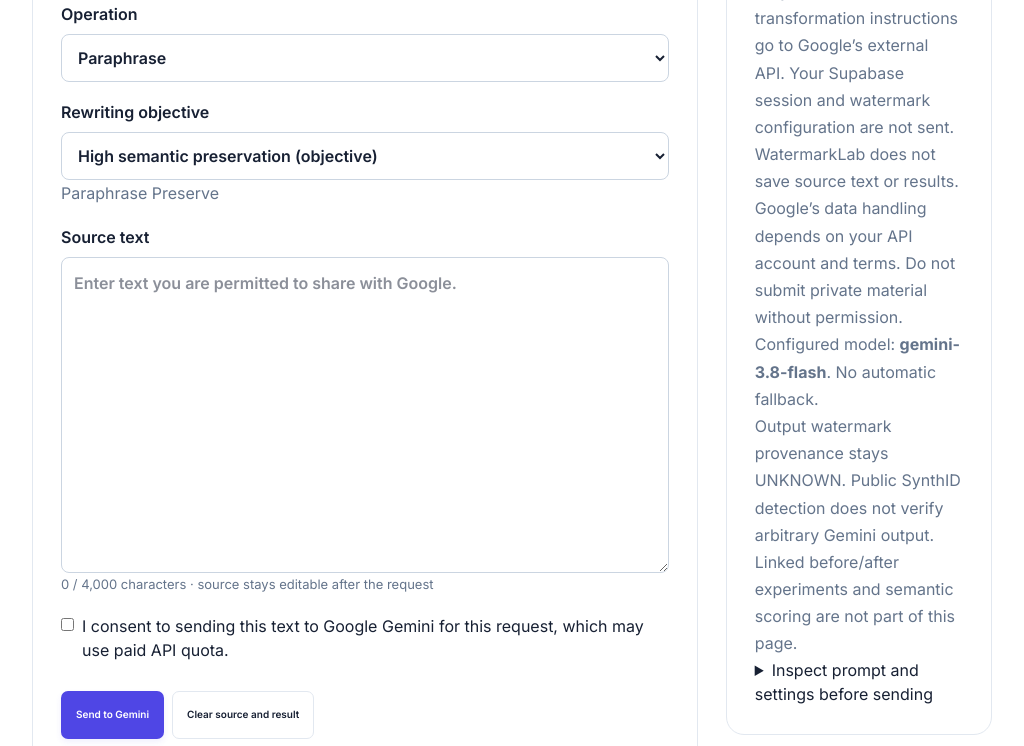
Scenario: provider quota error is surfaced without retry or a generated result
The width and height of the screenshot is (1024, 746).
(page scrolled)
Check: the button "Send to Gemini" is enabled, box [61, 691, 164, 739]
Type "Example text" into the text box labelled "Source text".
click(365, 415); type("Example text")  # box [61, 257, 669, 574]
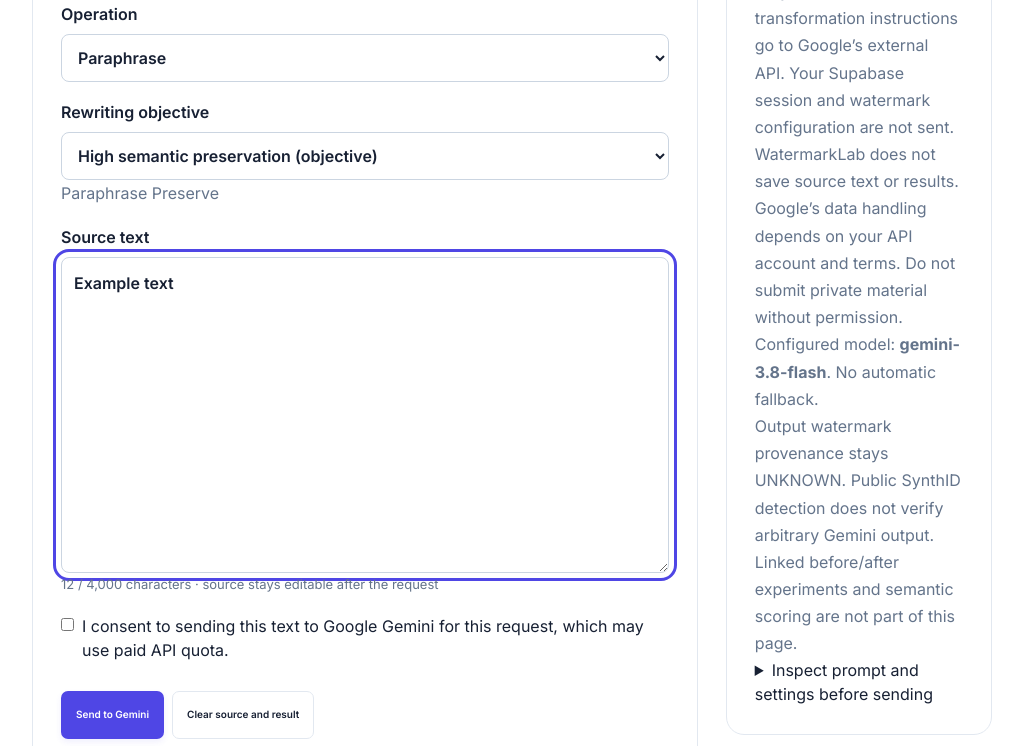
Click the checkbox.
click(68, 624)  # box [61, 618, 74, 631]
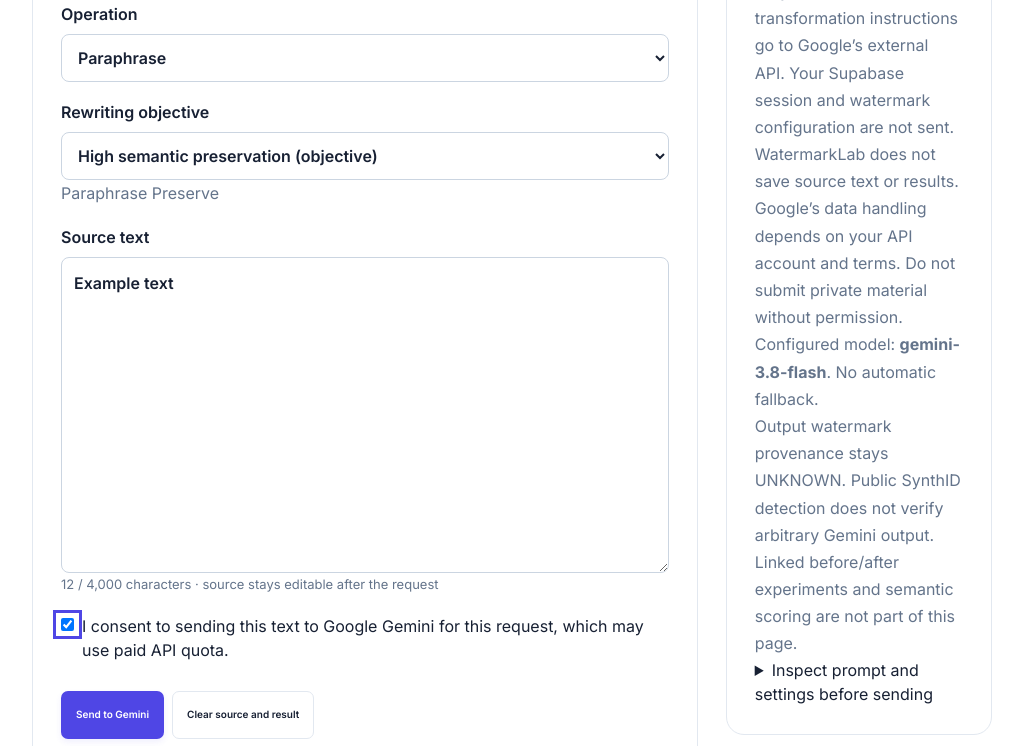
Click the button "Send to Gemini".
click(113, 715)  # box [61, 691, 164, 739]
(page scrolled)
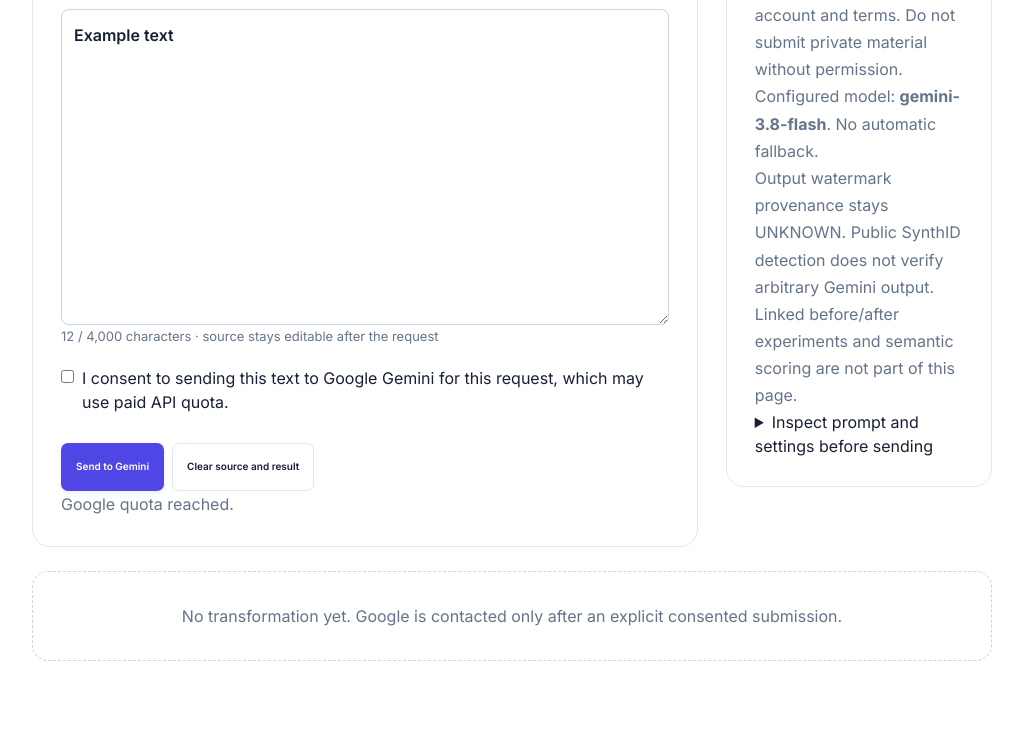
Check: the message reads "Google quota reached.", box [61, 494, 234, 514]
